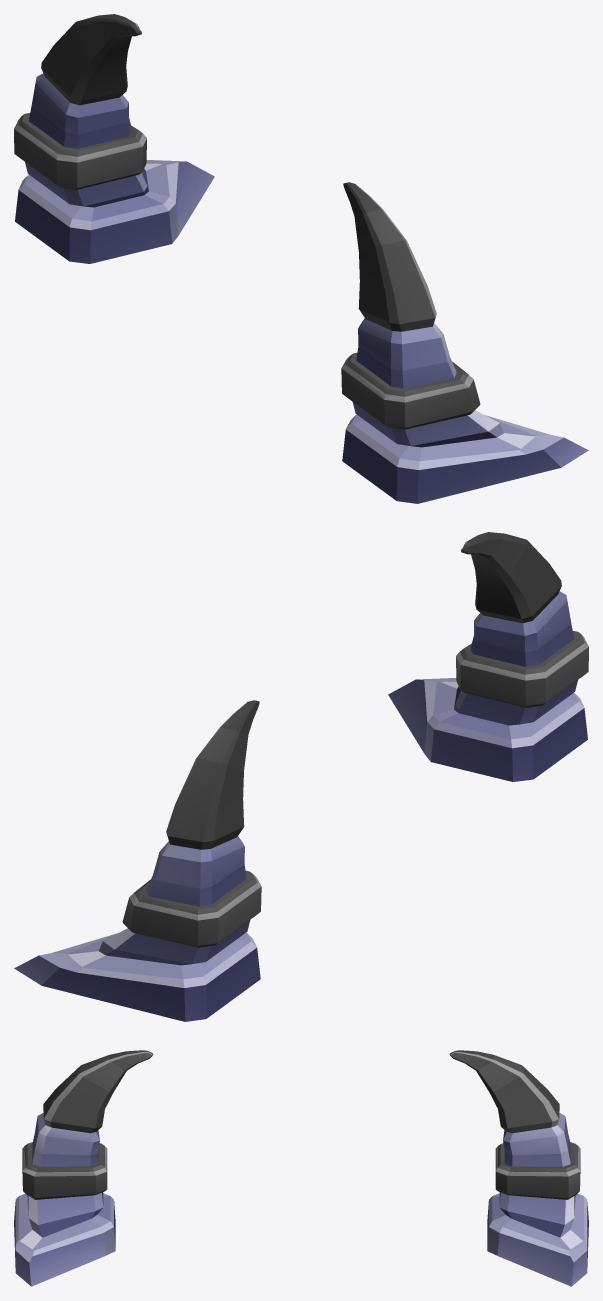
The model's file is hell-gate.obj.
3 renders of one model, top to bottom at view 1: azimuth 30°, elevation 25°; view 2: azimuth 150°, elevation 25°; view 3: azimuth 270°, elevation 25°, orthographic. The views are drawn at different scales.
Visible parts, largest first — view 1: hell-gate; view 2: hell-gate; view 3: hell-gate.
Part boxes in pixels (bbox=[...]): hell-gate: bbox=[14, 14, 588, 503]; hell-gate: bbox=[14, 532, 588, 1021]; hell-gate: bbox=[14, 1050, 588, 1286].
Size of the model in its own units: 4.75 by 5.56 by 16.15.
1 material, 1 textured.
